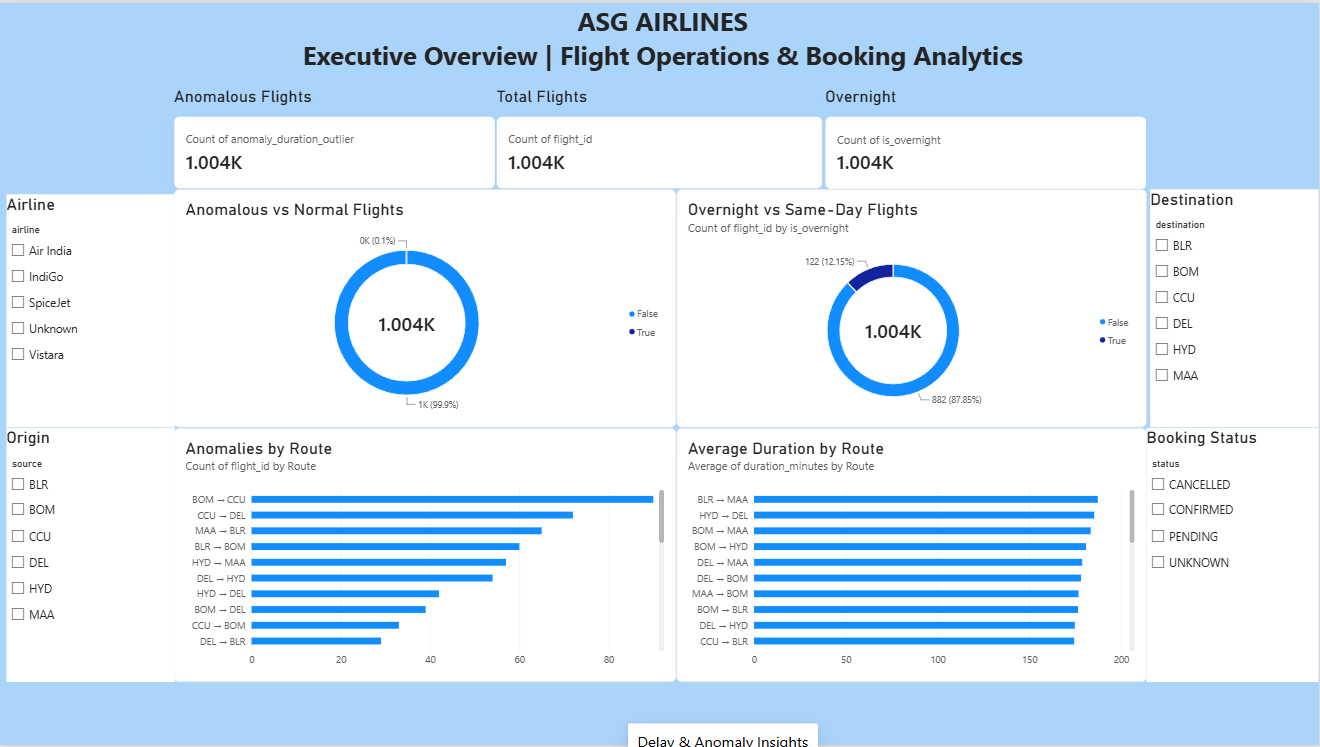

Layout of this report page (visuals, bound fields, positions):
{"tool":"powerbi","page":{"name":"Delay & Anomaly Insights","canvas":[1920,1080],"ordinal":4},"visuals":[{"type":"cardVisual","title":"Total Flights","fields":{"Data":["Count(cleaned_flights.flight_id)"]},"box":[723.2,121.4,475,148.2],"z":0},{"type":"cardVisual","title":"Anomalous Flights","fields":{"Data":["CountNonNull(cleaned_flights.anomaly_duration_outlier)"]},"box":[255.4,121.4,467.9,148.2],"z":1000},{"type":"textbox","box":[10.7,0,1908.9,121.4],"z":3001},{"type":"cardVisual","title":"Overnight","fields":{"Data":["CountNonNull(cleaned_flights.is_overnight)"]},"box":[1201.8,121.4,467.9,150],"z":3002},{"type":"donutChart","title":"Anomalous vs Normal Flights","fields":{"Category":["cleaned_flights.anomaly_duration_outlier"],"Y":["CountNonNull(cleaned_flights.flight_id)"]},"box":[255.4,271.4,730.4,346.4],"z":3003},{"type":"donutChart","title":"Overnight vs Same-Day Flights","fields":{"Category":["cleaned_flights.is_overnight"],"Y":["CountNonNull(cleaned_flights.flight_id)"]},"box":[985.7,271.4,683.9,346.4],"z":3004},{"type":"clusteredBarChart","title":"Anomalies by Route","fields":{"Category":["cleaned_flights.Route"],"Y":["CountNonNull(cleaned_flights.flight_id)"]},"box":[255.4,617.9,730.4,369.6],"z":3005},{"type":"clusteredBarChart","title":"Average Duration by Route","fields":{"Category":["cleaned_flights.Route"],"Y":["Avg(cleaned_flights.duration_minutes)"]},"box":[985.7,617.9,683.9,369.6],"z":3006},{"type":"slicer","title":"Airline","fields":{"Values":["cleaned_flights.airline"]},"box":[10.7,278.6,244.6,339.3],"z":3007},{"type":"slicer","title":"Origin","fields":{"Values":["cleaned_flights.source"]},"box":[10.7,617.9,244.6,369.6],"z":3008},{"type":"slicer","title":"Destination","fields":{"Values":["cleaned_flights.destination"]},"box":[1675,271.4,244.6,346.4],"z":3009},{"type":"slicer","title":"Booking Status","fields":{"Values":["cleaned_bookings.status"]},"box":[1669.6,617.9,250,369.6],"z":3010}]}

Visuals, with their boxes in screenshot pixels (x1, y1, x2, y2), scaled from the page's 1920x1080 canvas onto the 1320x747 screenshot:
"Total Flights" cardVisual: 497,84,824,186
"Anomalous Flights" cardVisual: 176,84,497,186
textbox: 7,0,1319,84
"Overnight" cardVisual: 826,84,1148,188
"Anomalous vs Normal Flights" donutChart: 176,188,678,427
"Overnight vs Same-Day Flights" donutChart: 678,188,1148,427
"Anomalies by Route" clusteredBarChart: 176,427,678,683
"Average Duration by Route" clusteredBarChart: 678,427,1148,683
"Airline" slicer: 7,193,176,427
"Origin" slicer: 7,427,176,683
"Destination" slicer: 1152,188,1319,427
"Booking Status" slicer: 1148,427,1319,683
